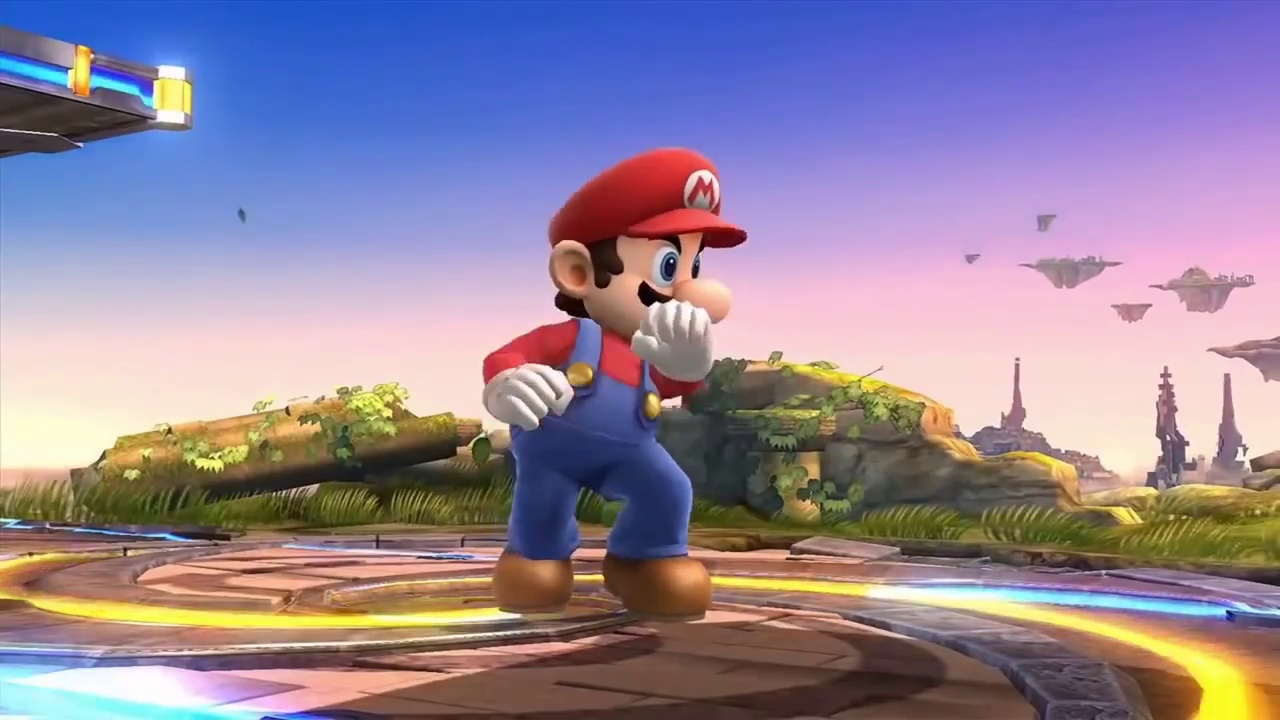Mario: (482, 145, 749, 621)
